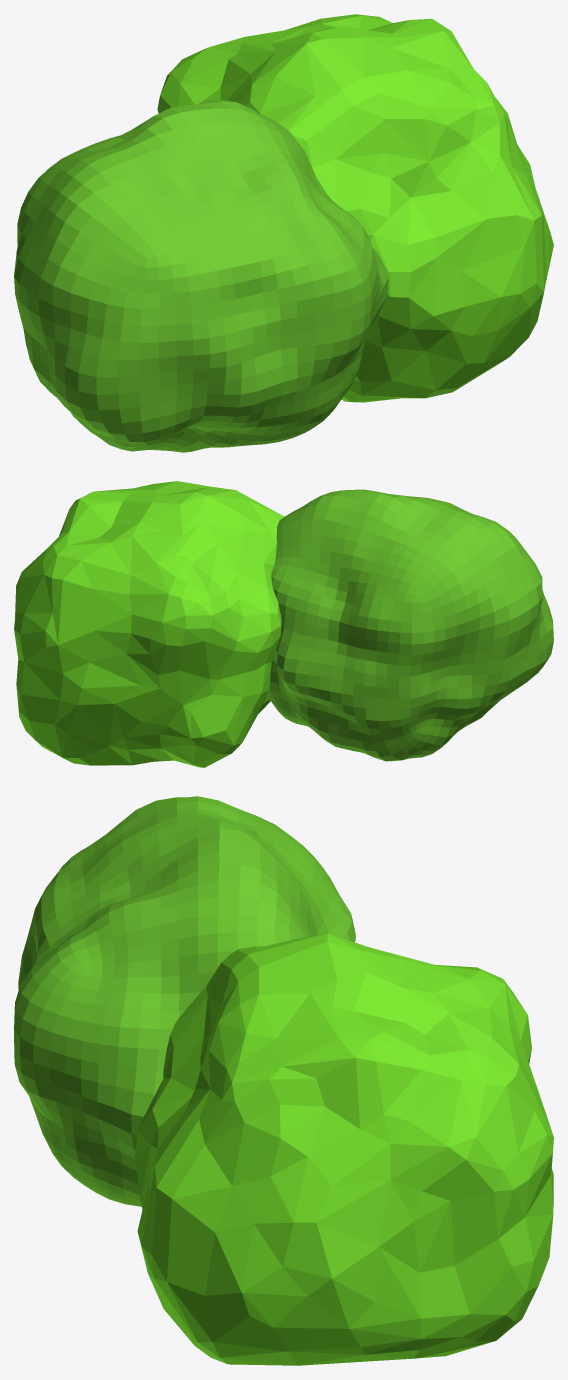
Rendered from Bush big 1.3.fbx.
3 views of the same model, one above another, from view 1: azimuth 30°, elevation 25°; view 2: azimuth 150°, elevation 25°; view 3: azimuth 270°, elevation 25° (orthographic). The views are drawn at different scales.
Parts seen in each view (by area): view 1: Cube.280; view 2: Cube.280; view 3: Cube.280.
Boxes of the visible parts, x1,y1,x2,y2 form: Cube.280: [14, 14, 553, 452]; Cube.280: [14, 481, 553, 767]; Cube.280: [14, 796, 553, 1365].
Bounding box in the file's own units: 2577 × 1545 × 1927.
